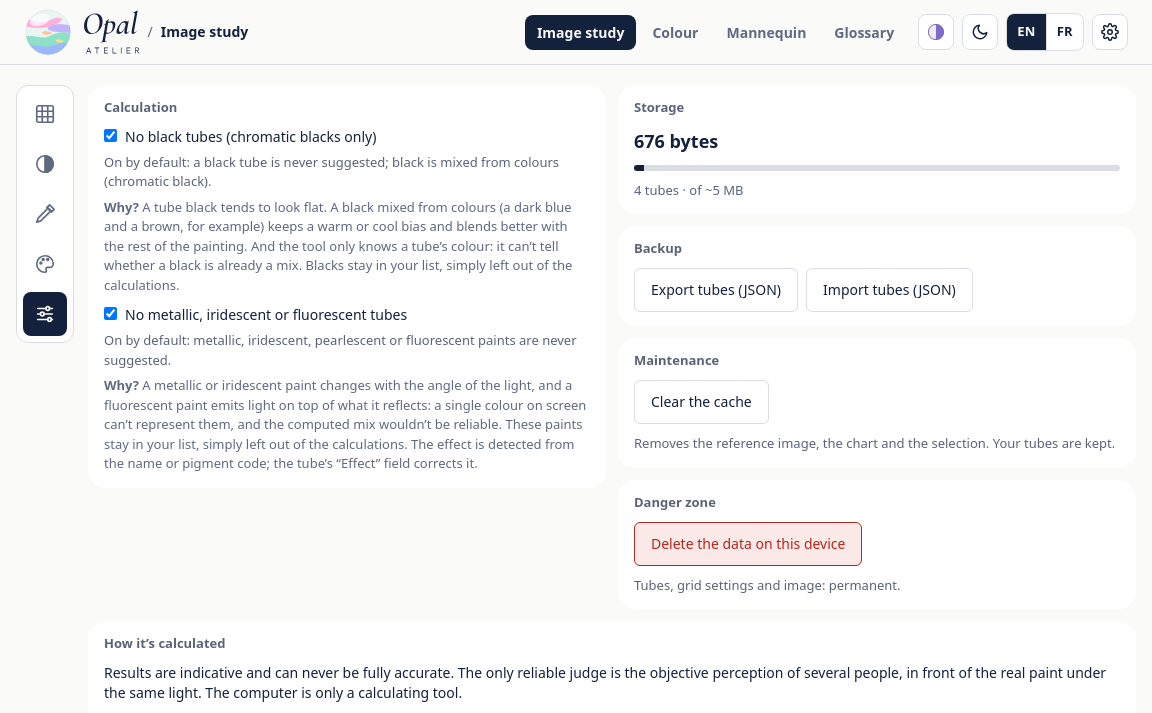
Test case: Image study › settings › deletes this tool’s data once confirmed
Click the button "Delete the data on this device": (748, 544) left=634, top=522, right=862, bottom=566
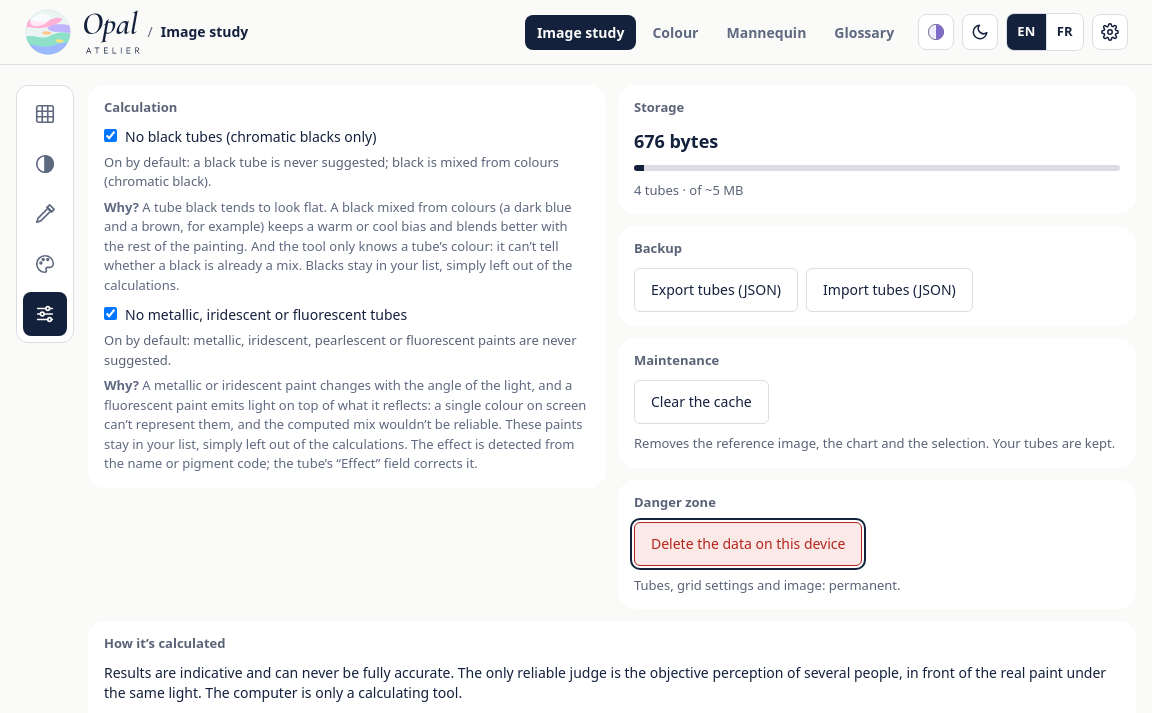
Click the button "Delete the data on this device": (748, 544) left=634, top=522, right=862, bottom=566
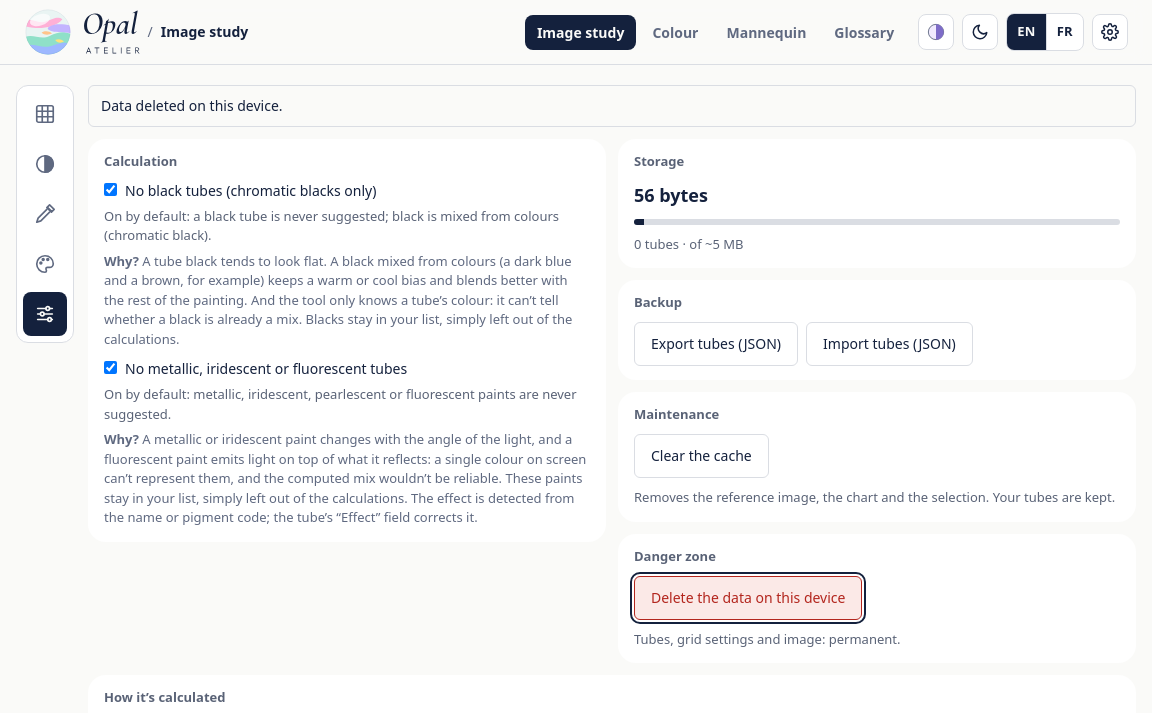
Expected: the text "Data deleted on this device." is shown, left=88, top=85, right=1136, bottom=127
